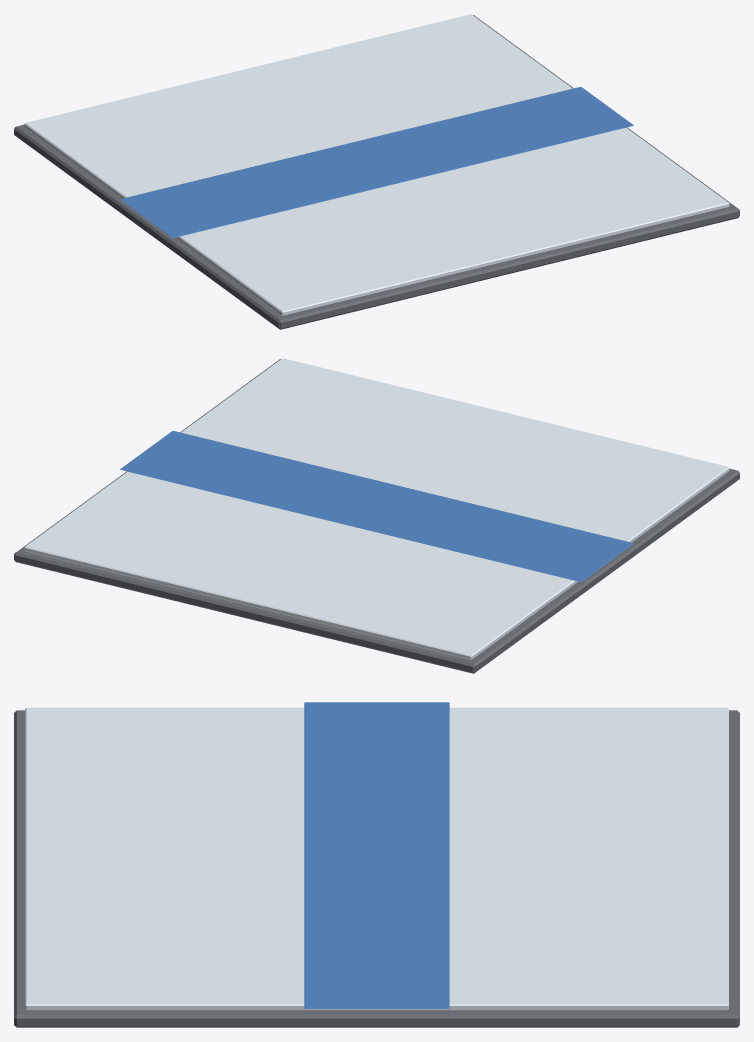
The model's file is ice-hockey-arena-and-locker-room-ice-surface-tile-blue-9e3b7f1d__33691.glb.
3 renders of one model, top to bottom at view 1: azimuth 30°, elevation 25°; view 2: azimuth 150°, elevation 25°; view 3: azimuth 270°, elevation 25°, orthographic. The views are drawn at different scales.
Parts seen in each view (by area): view 1: ice-surface-tile-blue-line; view 2: ice-surface-tile-blue-line; view 3: ice-surface-tile-blue-line.
Part boxes in pixels (x1,y1,x2,y2): ice-surface-tile-blue-line: (14,14,739,329); ice-surface-tile-blue-line: (14,358,739,673); ice-surface-tile-blue-line: (14,702,739,1027).
Bounding box in the file's own units: 2 × 0.062 × 2.
